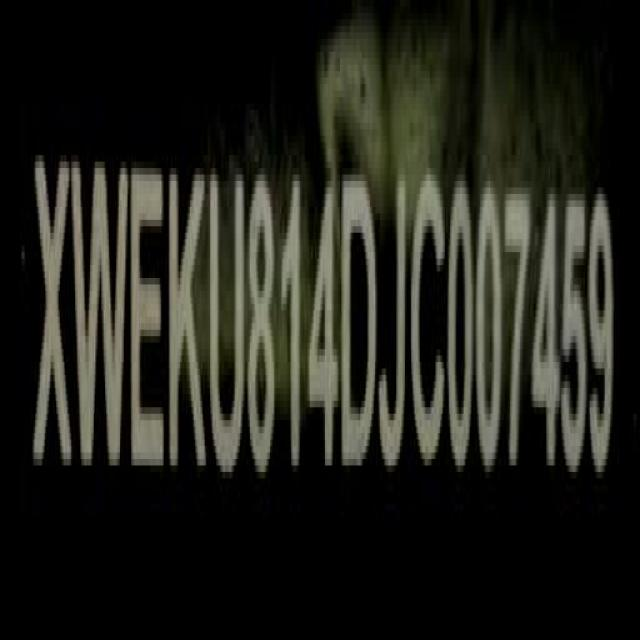0: (476, 173, 504, 479), (449, 176, 477, 476)
1: (282, 168, 304, 485)
4: (307, 170, 341, 483), (531, 179, 560, 480)
5: (562, 190, 589, 481)
7: (506, 175, 532, 482)
8: (248, 168, 278, 483)
9: (592, 189, 619, 483)
C: (413, 174, 447, 476)
D: (343, 172, 379, 478)
E: (129, 160, 166, 482)
J: (379, 169, 408, 473)
K: (169, 160, 210, 483)
U: (207, 165, 247, 477)
W: (73, 152, 131, 484)
X: (31, 149, 73, 486)
